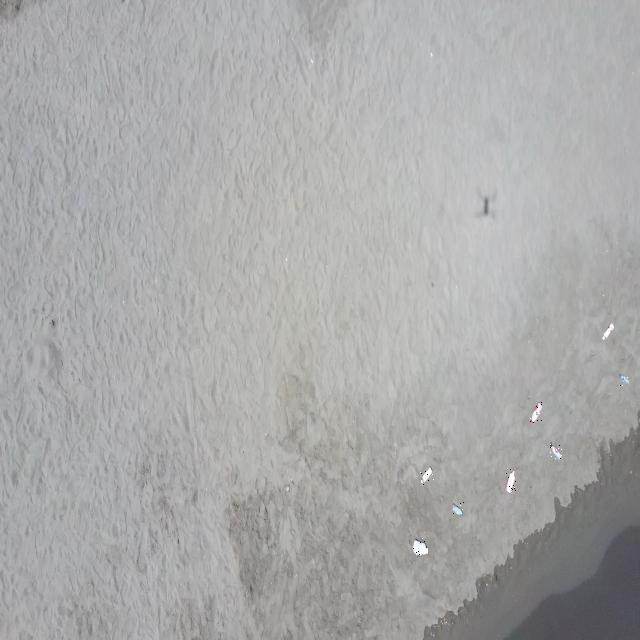Garbage: (412, 537, 427, 555), (529, 402, 540, 422), (420, 467, 432, 484), (506, 470, 515, 492), (550, 443, 560, 459), (603, 323, 612, 340), (452, 503, 462, 515), (619, 373, 627, 384)
